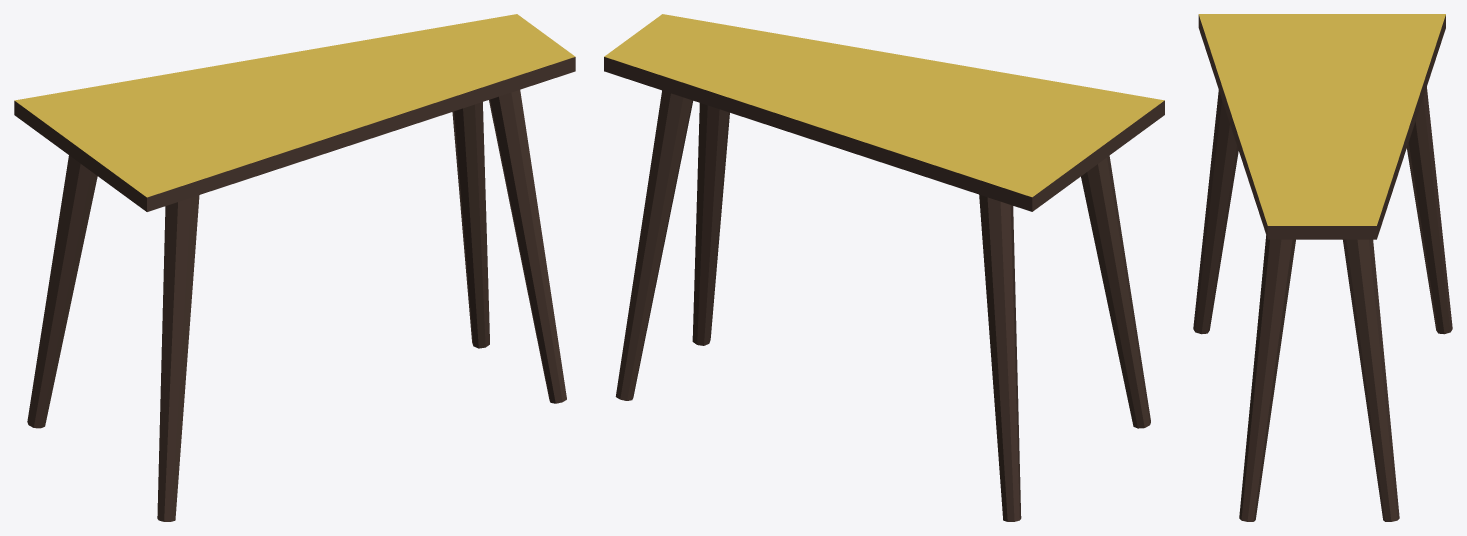
The model's file is Table Two.fbx.
The picture shows the model from 3 angles, left to right: view 1: azimuth 30°, elevation 25°; view 2: azimuth 150°, elevation 25°; view 3: azimuth 270°, elevation 25°; orthographic projection. The views are drawn at different scales.
Visible parts, largest first — view 1: Stoll; view 2: Stoll; view 3: Stoll.
Boxes of the visible parts, bbox=[...] form: Stoll: bbox=[14, 14, 575, 521]; Stoll: bbox=[604, 14, 1164, 521]; Stoll: bbox=[1193, 14, 1452, 521].
Bounding box in the file's own units: 300 × 203 × 155.
